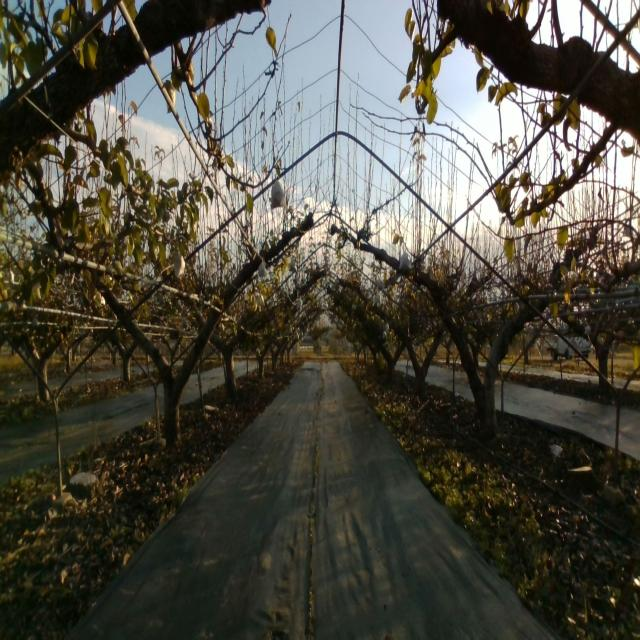pearbags: (270, 173, 287, 211), (173, 253, 186, 280), (398, 252, 413, 272)
